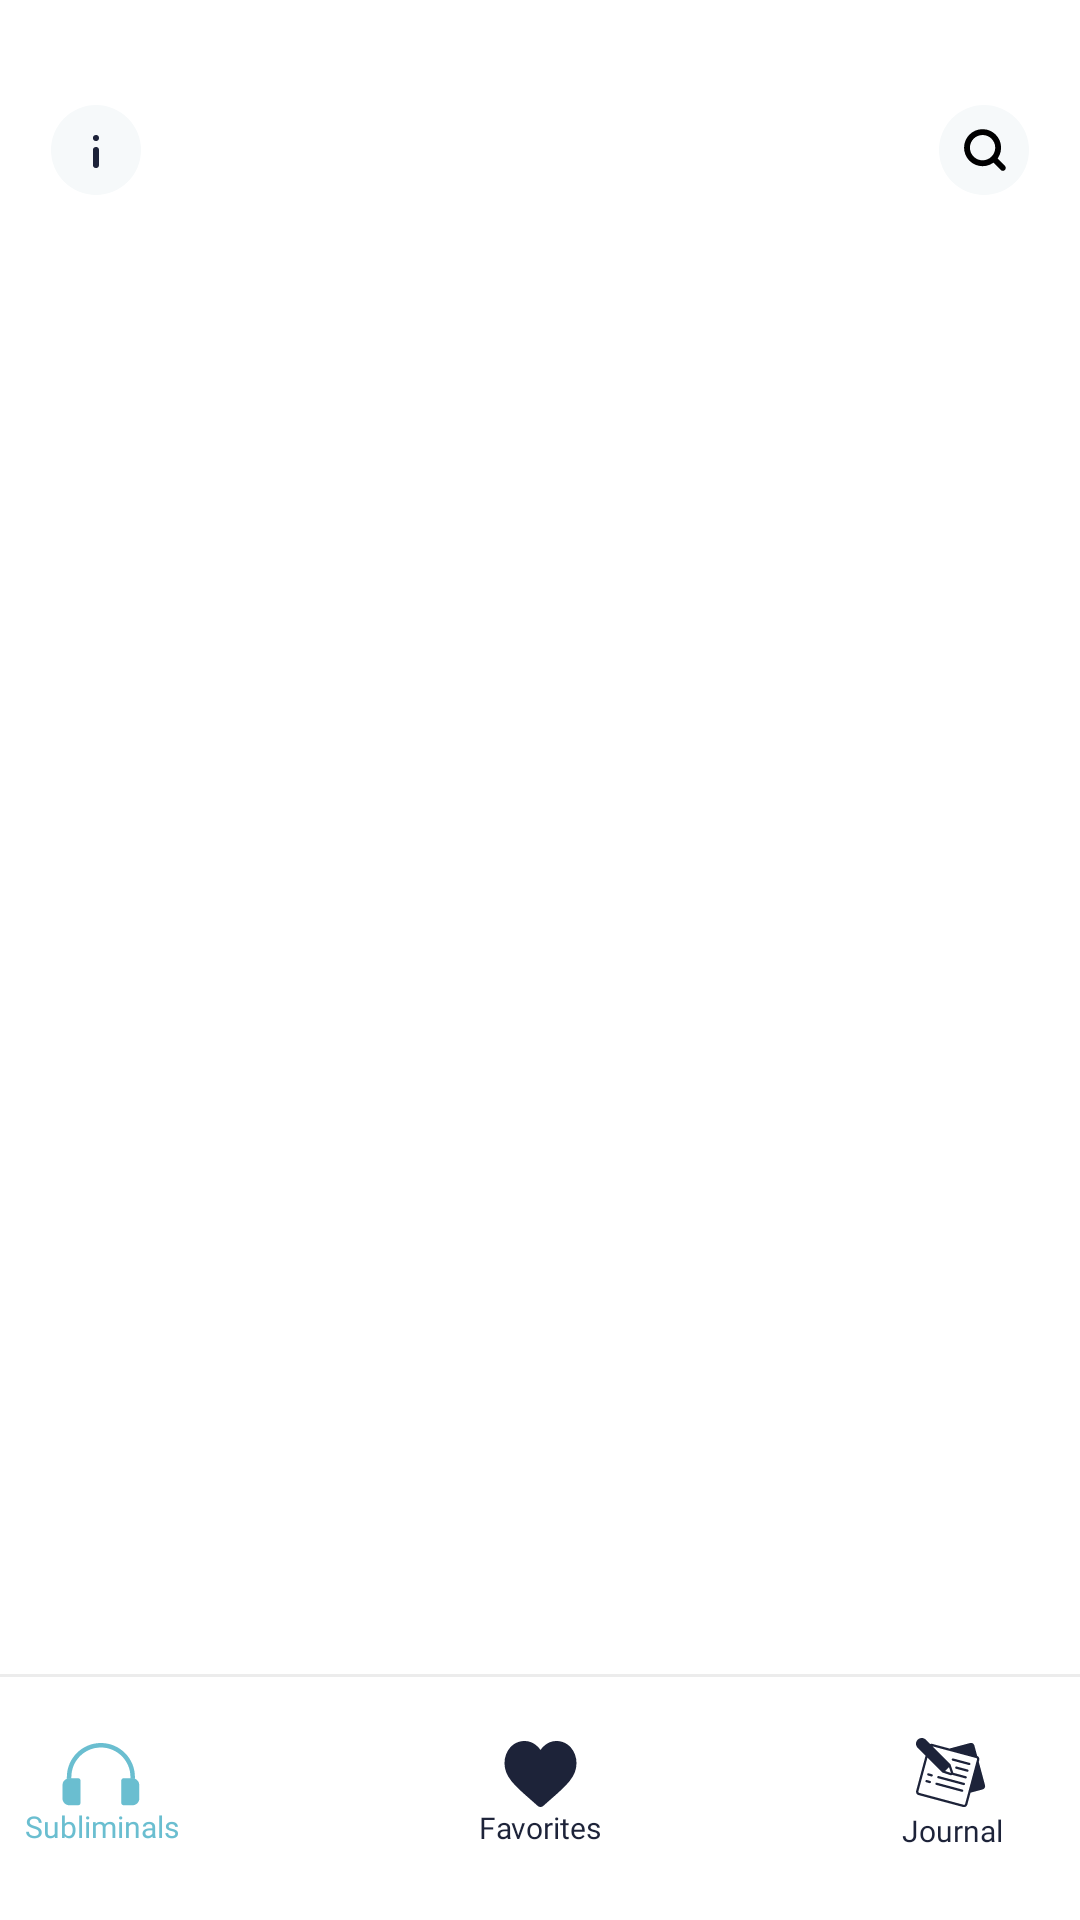

Screen size 1080 × 1920. Icon name, then its box in pixels as (x1, y1, x2, y2):
button info: (93, 135, 99, 168)
button search: (939, 105, 1029, 195)
